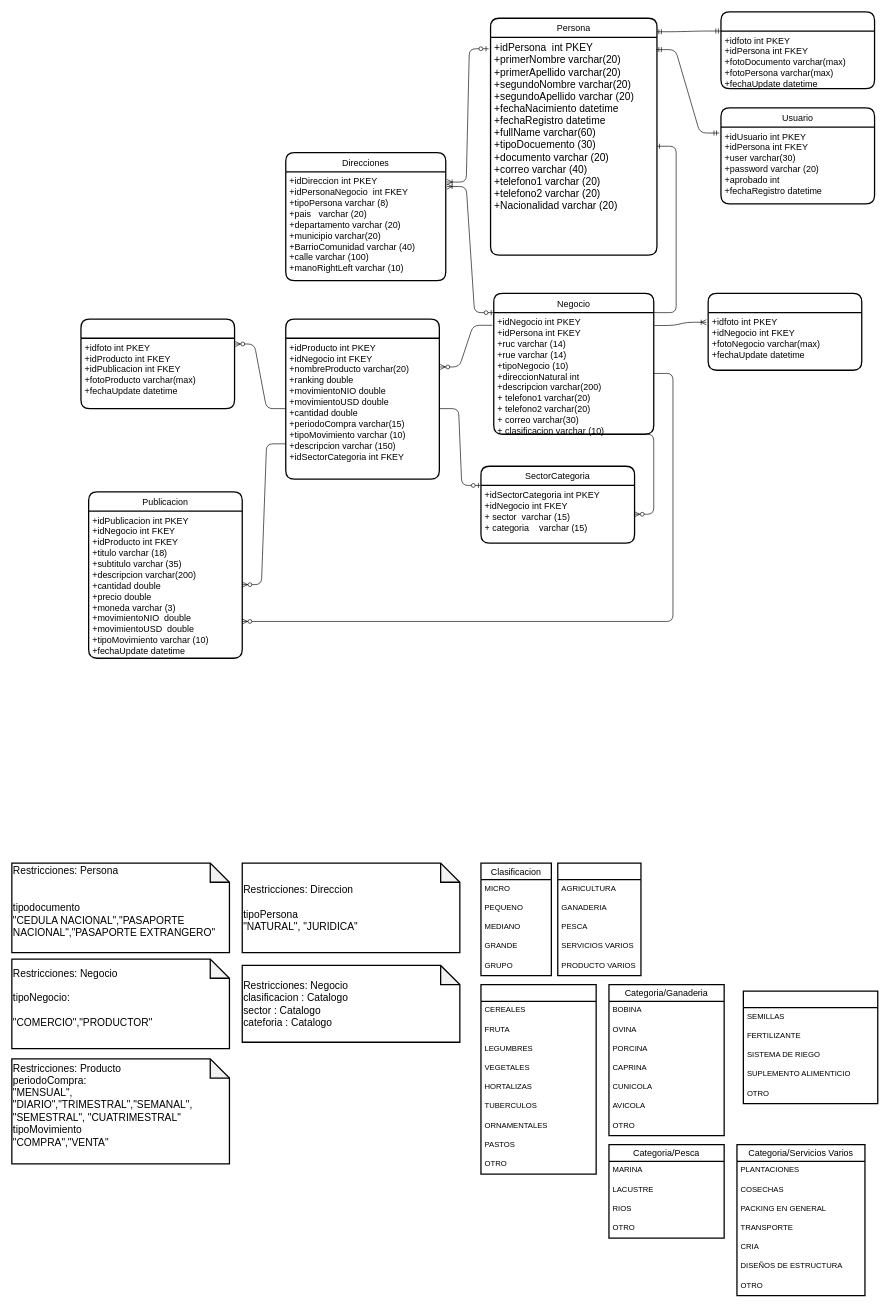
Some shapes in this 889 by 1308 pixel diagram are drawn without their labels. The shapes that lost their labels are listed below. From the top down, each one's box as (x1, y1, x2, y2) in pixels, then its label:
(720, 11, 875, 89): FotosPersona
(707, 292, 862, 371): FotosNegocio
(80, 318, 235, 409): FotosProducto
(285, 318, 440, 479): Productos
(557, 862, 641, 976): Sector
(742, 990, 878, 1104): Categoria/Producto Varios
(480, 984, 596, 1174): Categoria/Agricola
